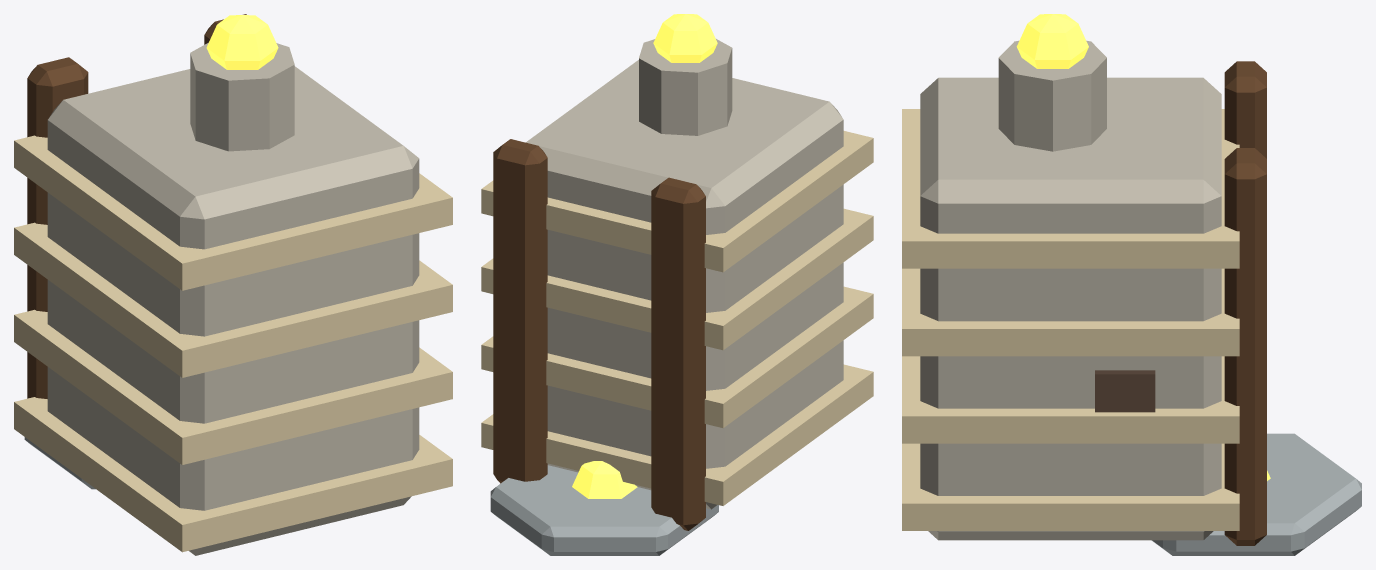
Rendered from back_bellows.glb.
The picture shows the model from 3 angles, left to right: view 1: azimuth 30°, elevation 25°; view 2: azimuth 150°, elevation 25°; view 3: azimuth 270°, elevation 25°; orthographic projection. The views are drawn at different scales.
Visible parts, largest first — view 1: back_bellows; view 2: back_bellows; view 3: back_bellows.
Boxes of the visible parts, box(x1,y1,x2,y2) form: back_bellows: box(14, 14, 452, 555); back_bellows: box(481, 14, 873, 555); back_bellows: box(902, 14, 1361, 555).
Bounding box in the file's own units: 0.52 × 0.9116 × 0.7625.
1 material, 1 textured.
